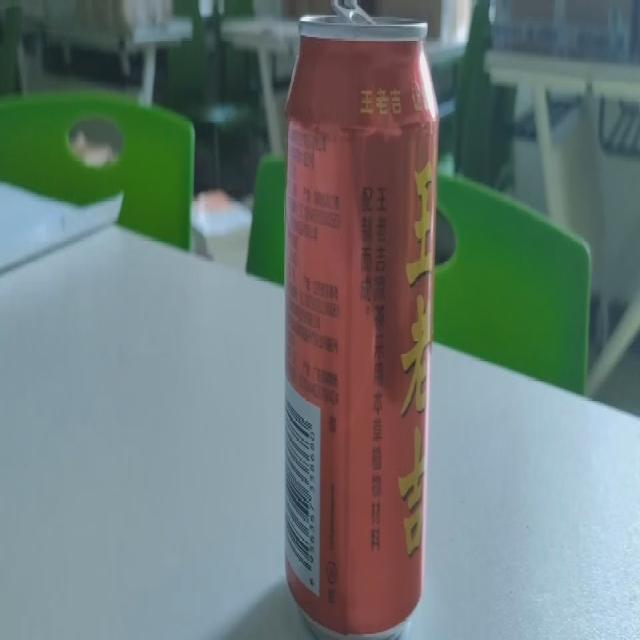can: (282, 20, 440, 640)
